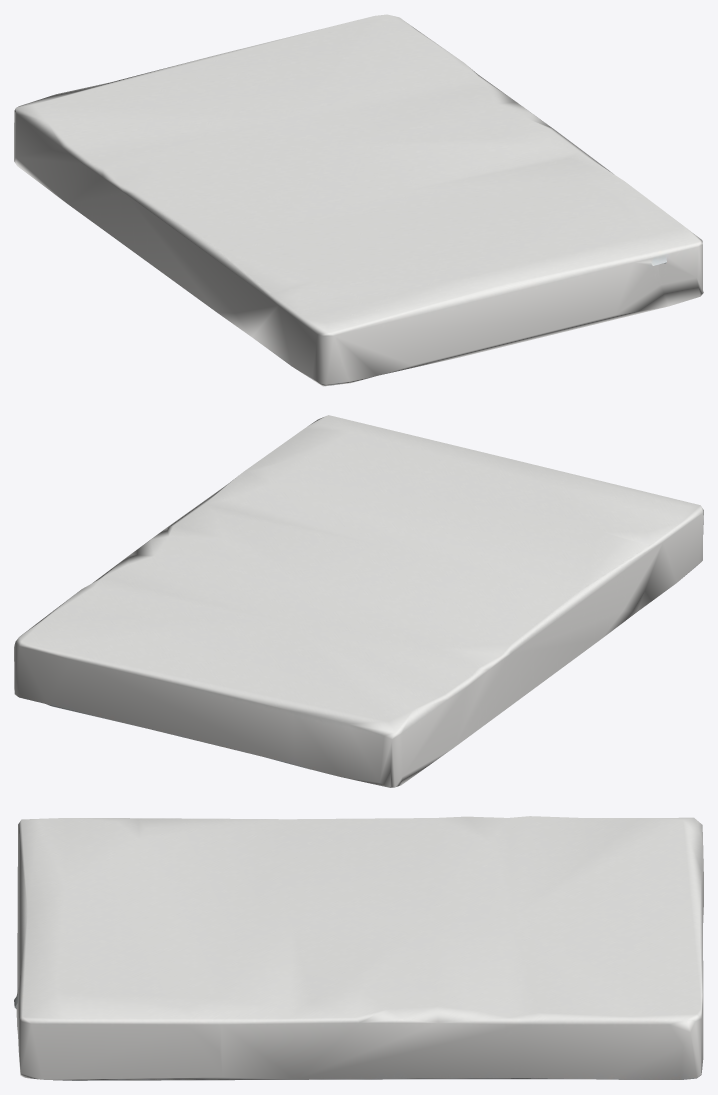
The model's file is vesteroey_pocket_spring_mattress_medium_.glb.
3 renders of one model, top to bottom at view 1: azimuth 30°, elevation 25°; view 2: azimuth 150°, elevation 25°; view 3: azimuth 270°, elevation 25°, orthographic. The views are drawn at different scales.
Parts seen in each view (by area): view 1: ASY_ART_80511907_S01_NV01; view 2: ASY_ART_80511907_S01_NV01; view 3: ASY_ART_80511907_S01_NV01.
Part boxes in pixels (bbox=[...]): ASY_ART_80511907_S01_NV01: bbox=[14, 14, 703, 386]; ASY_ART_80511907_S01_NV01: bbox=[14, 415, 703, 787]; ASY_ART_80511907_S01_NV01: bbox=[14, 816, 703, 1080].
Bounding box in the file's own units: 1.35 × 0.2037 × 1.9.
Materials: 1 (1 with a texture image).
